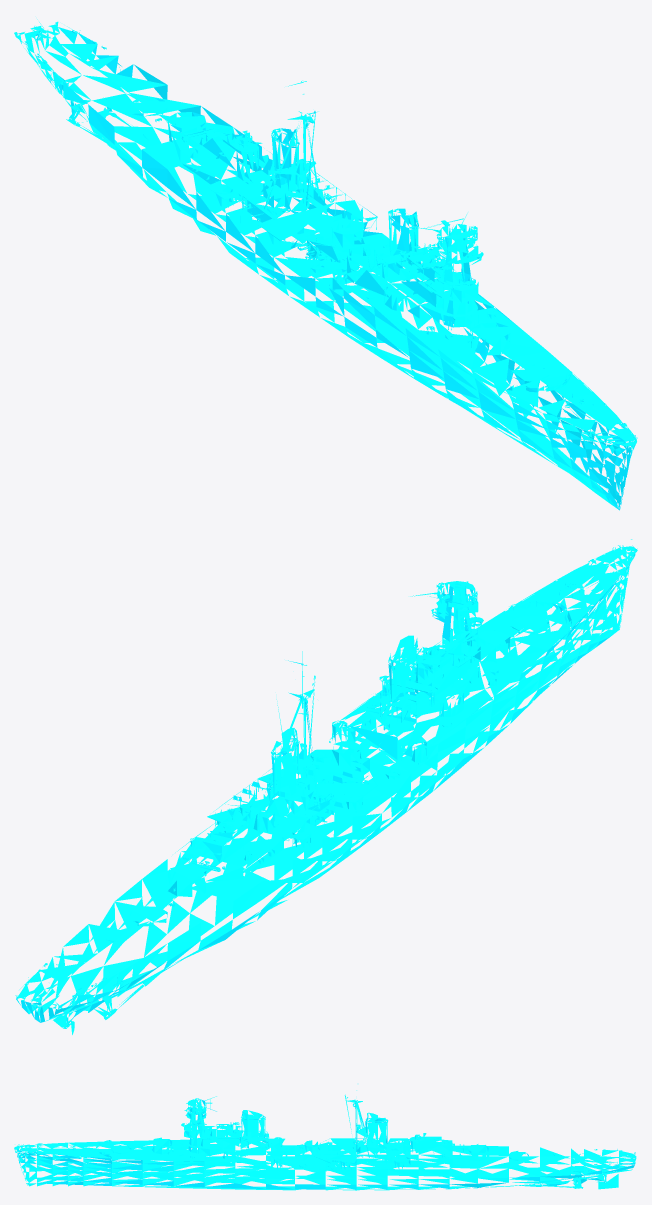
The model's file is Lazo.glb.
The picture shows the model from 3 angles, top to bottom: view 1: azimuth 30°, elevation 25°; view 2: azimuth 150°, elevation 25°; view 3: azimuth 270°, elevation 25°; orthographic projection. The views are drawn at different scales.
Size of the model in its own units: 1.25 by 2.68 by 13.29.
